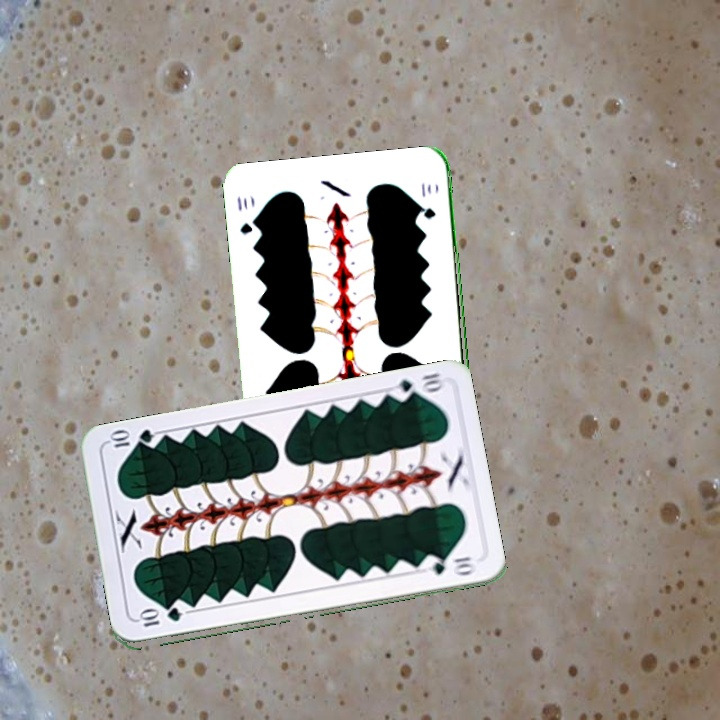G10: (386, 369, 446, 404), (233, 193, 261, 237), (135, 606, 185, 630)
